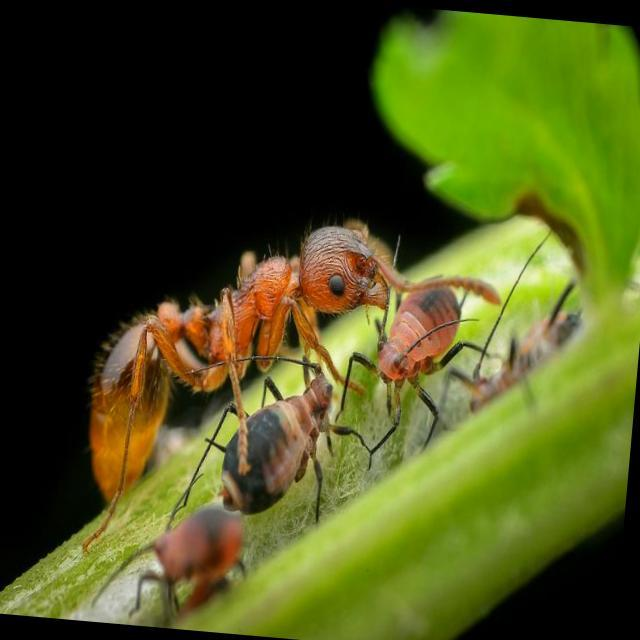aphid: (172, 344, 370, 556), (344, 266, 477, 450)
